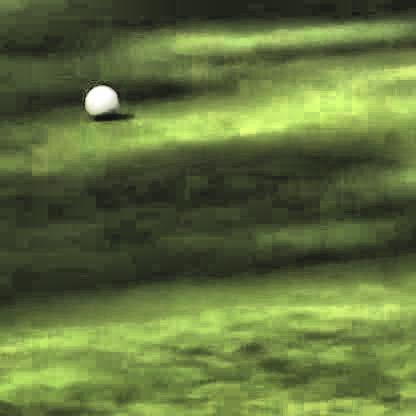golfball: (81, 81, 117, 117)
